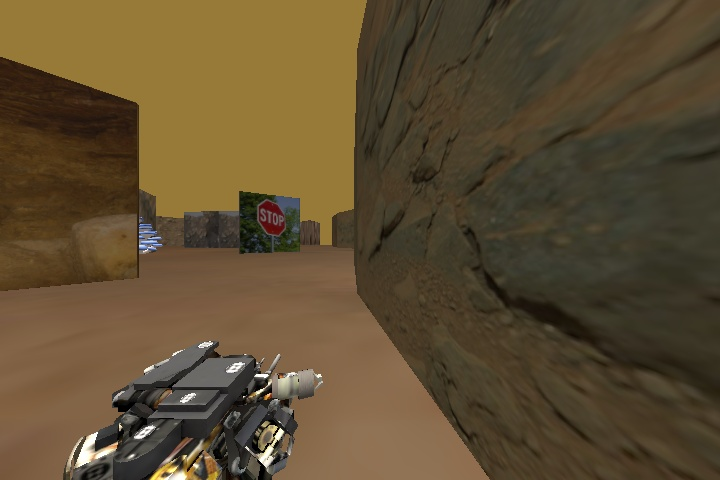mushroom: (136, 214, 165, 255)
sign: (257, 200, 287, 237)
